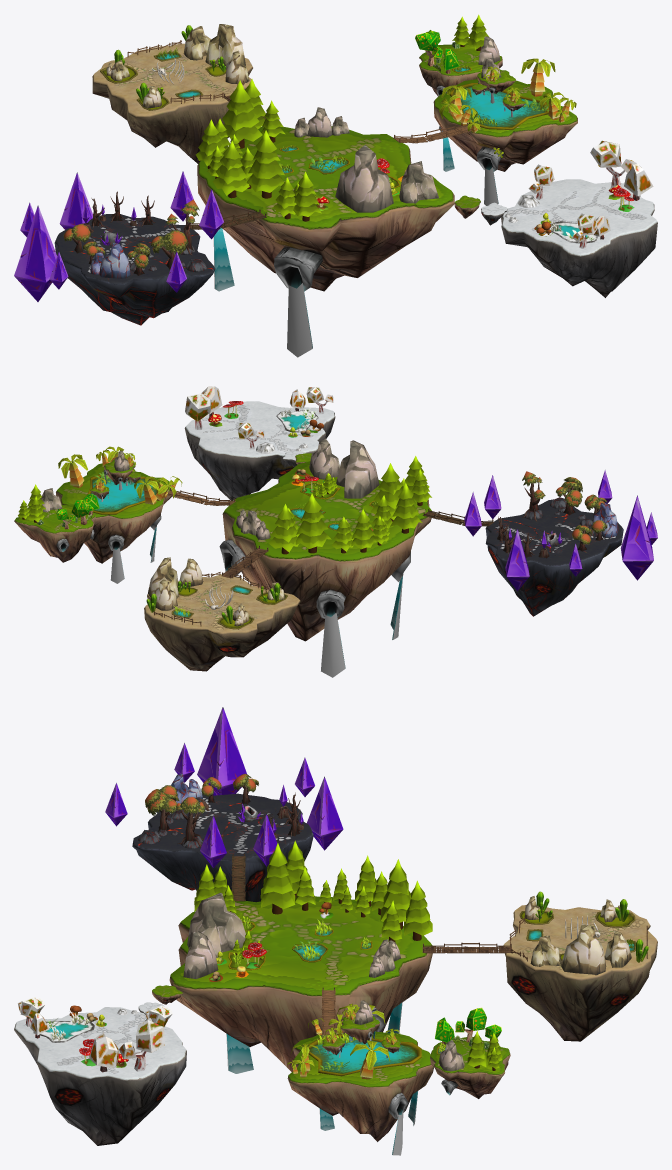
The model's file is Cartoon Island - Four Seasons.FBX.
The picture shows the model from 3 angles, top to bottom: view 1: azimuth 30°, elevation 25°; view 2: azimuth 150°, elevation 25°; view 3: azimuth 270°, elevation 25°; orthographic projection. The views are drawn at different scales.
Visible parts, largest first — view 1: island_ garden forest (×4), island snow, island_ garden desert, island _Rift, island_ garden forest_rock, island_ rift_crystal, island_ garden forest_water land, island_ garden forest_rock2 (×2), island_ garden forest_tree10, water effect002, island_ garden forest_tree, island_ garden forest_rock3 (×2) (+18 smaller); view 2: island_ garden forest (×3), island_ garden desert, island snow, island _Rift, island_ garden forest_rock, island_ rift_crystal, island_ garden forest_water land, water effect002, island_ garden forest_rock2 (×2), island_ garden forest_tree10, island_ rift_crystal2, island_ garden forest_tree11 (+17 smaller); view 3: island_ garden forest (×4), island snow, island_ garden desert, island _Rift, island_ garden forest_water land, island_ rift_crystal, island_ garden forest_rock, island_ garden forest_rock2 (×2), island_ garden forest_rock1, island_ garden forest_tree, island_ rift_crystal2, island snow_ tree2 (+10 smaller).
Part boxes in pixels (x1,y1,x2,y2): island_ garden forest (×4): (197, 42, 577, 348); island snow: (501, 179, 657, 297); island_ garden desert: (92, 43, 252, 163); island _Rift: (54, 214, 215, 325); island_ garden forest_rock: (335, 145, 393, 212); island_ rift_crystal: (14, 205, 57, 301); island_ garden forest_water land: (449, 83, 548, 129); island_ garden forest_rock2 (×2): (225, 50, 438, 203); island_ garden forest_tree10: (222, 80, 262, 148); water effect002: (213, 237, 312, 357); island_ garden forest_tree: (246, 130, 284, 198); island_ garden forest_rock3 (×2): (183, 26, 332, 137); island_ garden forest (×3): (14, 461, 431, 668); island_ garden desert: (144, 574, 300, 671); island snow: (184, 401, 335, 500); island _Rift: (485, 499, 623, 616); island_ garden forest_rock: (336, 440, 379, 498); island_ rift_crystal: (620, 495, 653, 580); island_ garden forest_water land: (87, 474, 158, 514); water effect002: (225, 568, 402, 677); island_ garden forest_rock2 (×2): (179, 438, 339, 587); island_ garden forest_tree10: (295, 493, 331, 553); island_ rift_crystal2: (505, 529, 529, 590); island_ garden forest_tree11: (268, 504, 298, 554); island_ garden forest (×4): (169, 896, 510, 1154); island snow: (14, 1007, 186, 1145); island_ garden desert: (503, 905, 657, 1041); island _Rift: (132, 793, 313, 902); island_ garden forest_water land: (308, 1034, 421, 1076); island_ rift_crystal: (197, 707, 246, 795); island_ garden forest_rock: (187, 892, 245, 957); island_ garden forest_rock2 (×2): (183, 931, 561, 978); island_ garden forest_rock1: (560, 923, 606, 975); island_ garden forest_tree: (260, 843, 295, 914); island_ rift_crystal2: (307, 776, 343, 850); island snow_ tree2: (119, 1018, 164, 1071).
Bounding box in the file's own units: 31865 × 11102 × 27951.
